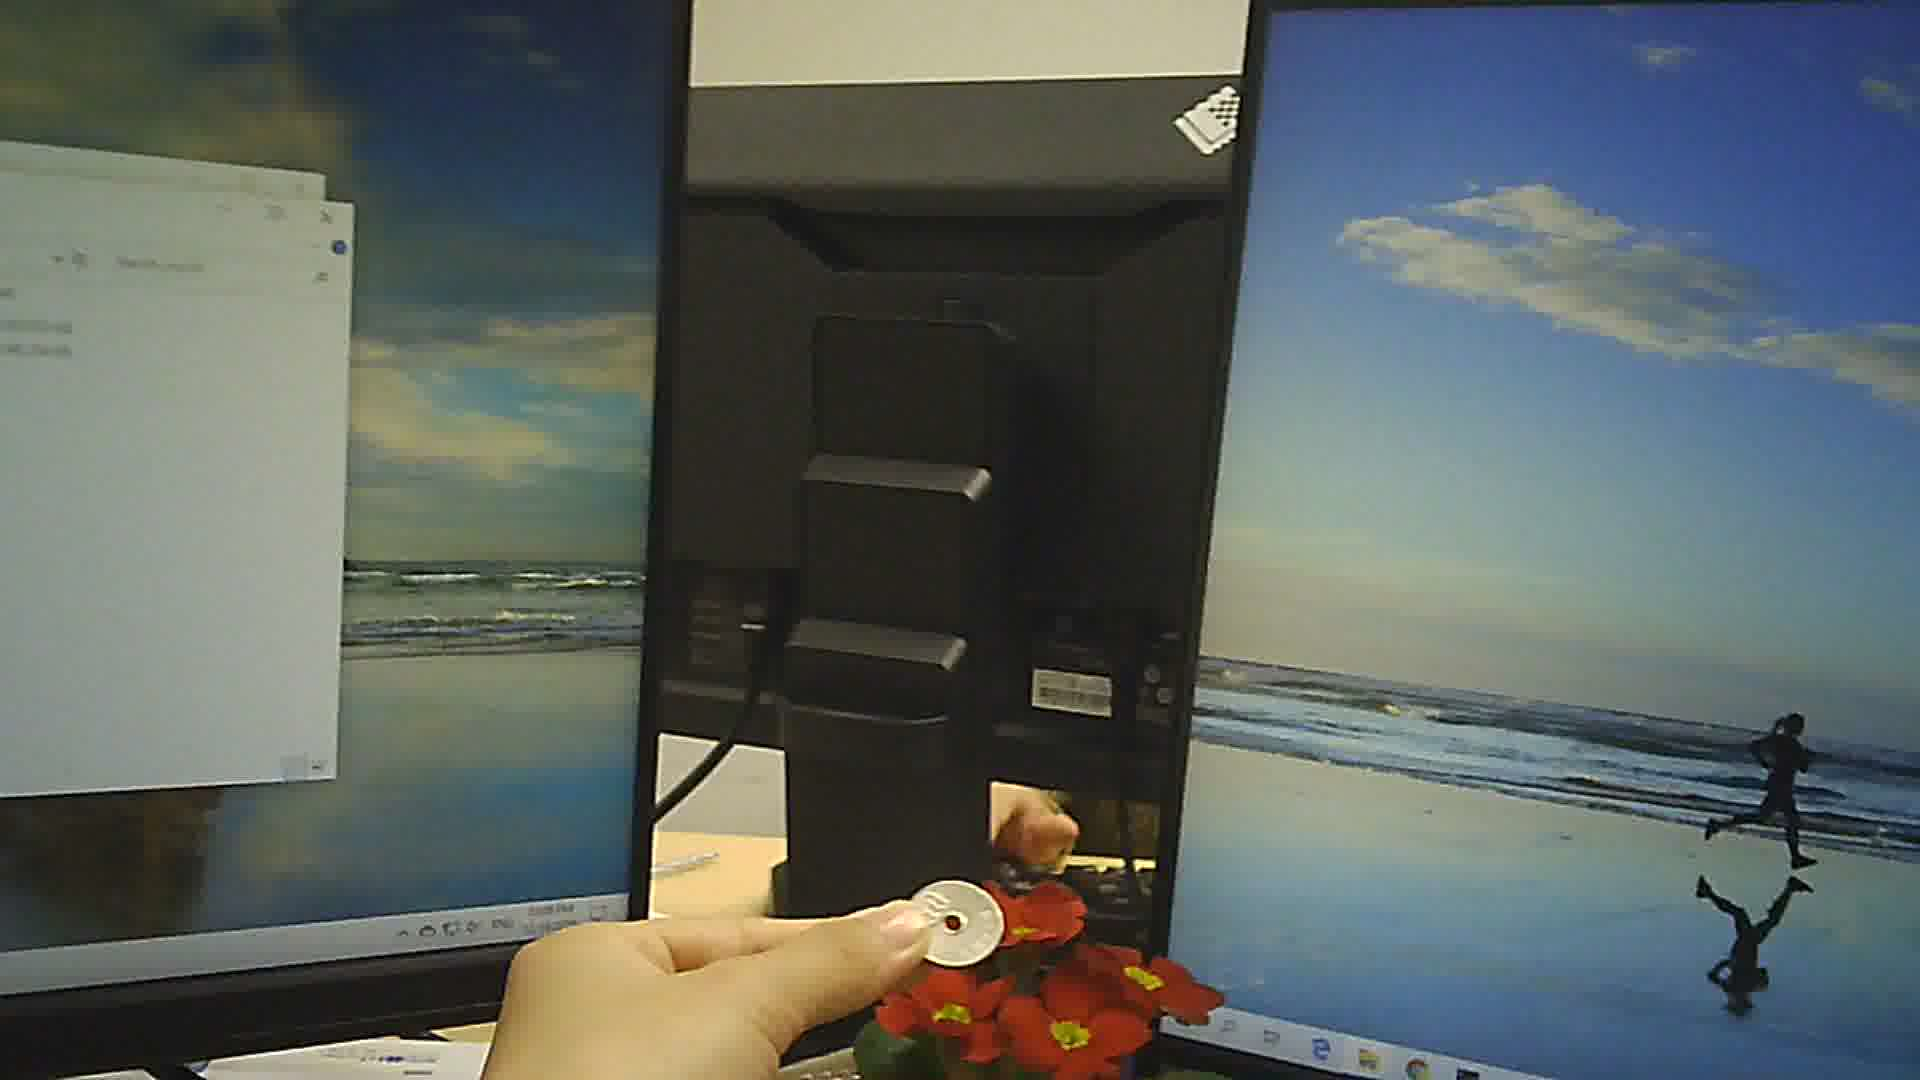50 Yen: (897, 880, 1004, 968)
